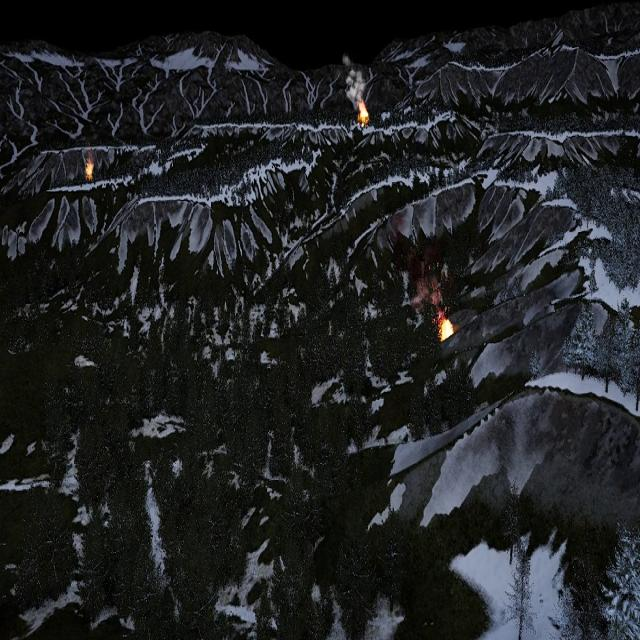fire: (441, 317, 455, 340), (358, 102, 368, 124), (87, 161, 95, 180)
smoke: (405, 264, 445, 316), (338, 52, 368, 104)
